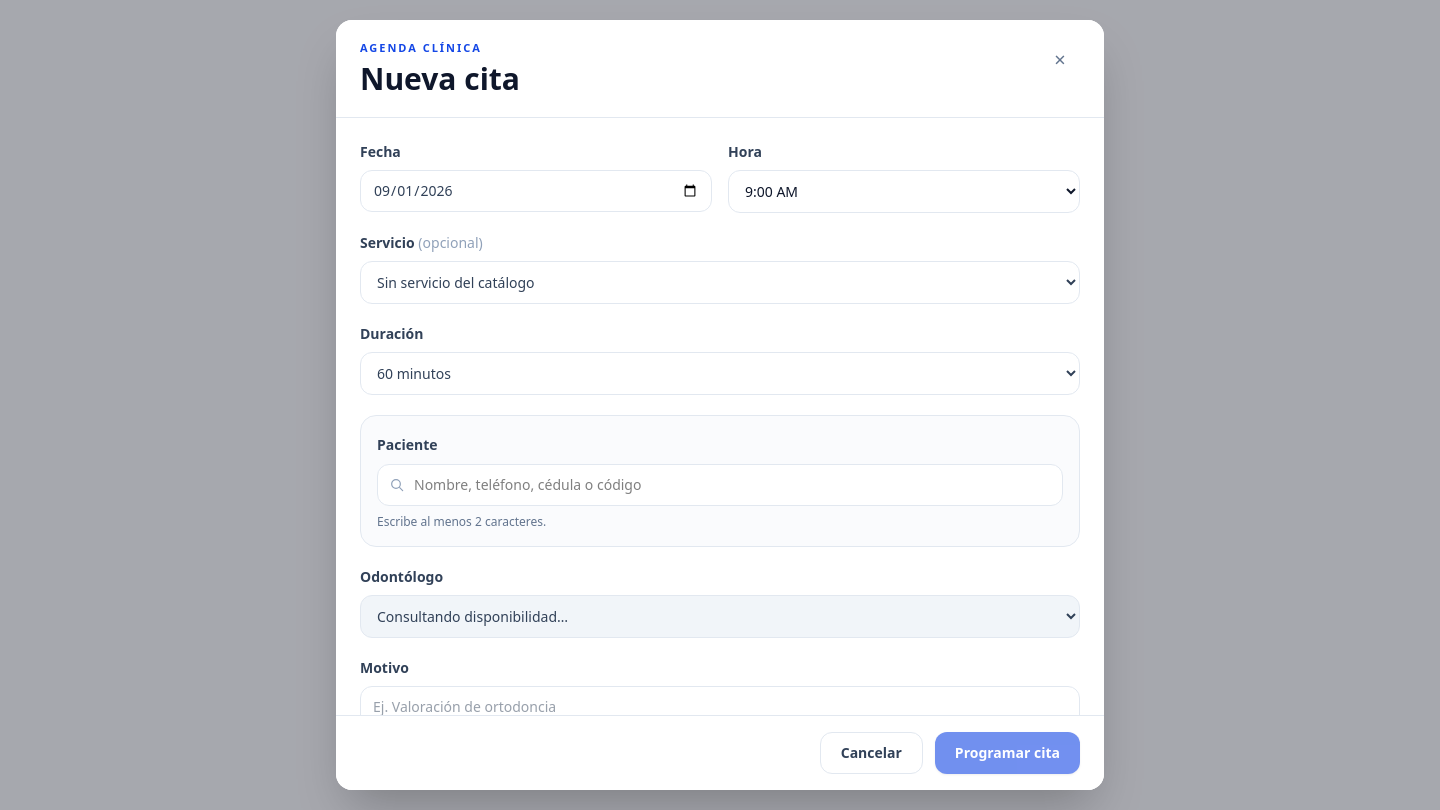
it: AppointmentFormPanel patient search › explains when a valid search has no results
The image size is (1440, 810).
In the dropdown labelled "Paciente": point(720, 484) [377,464,1063,506], type "Nadie"
Wait 300 ms
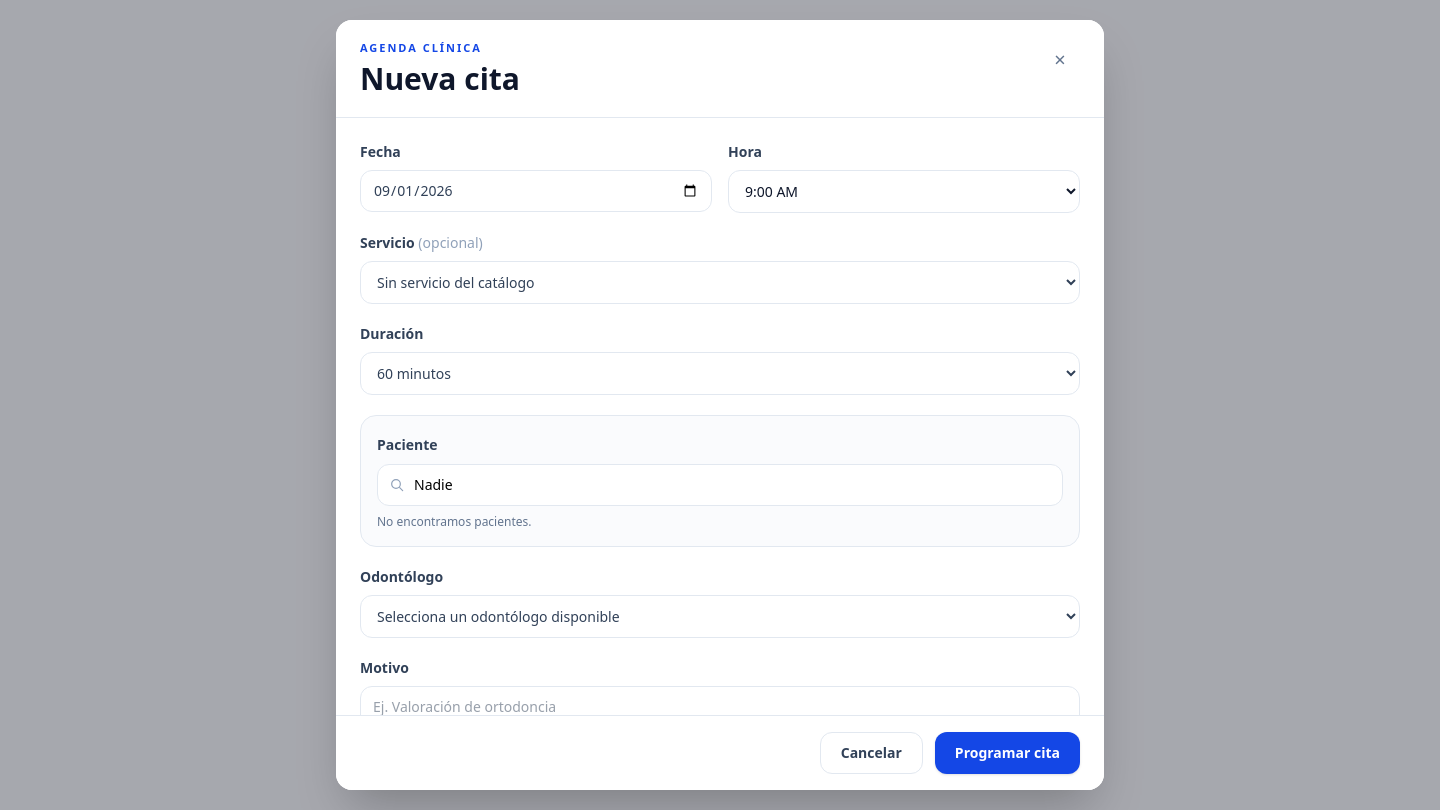
Now the text "No encontramos pacientes." is shown, box [377,512,532,530]
